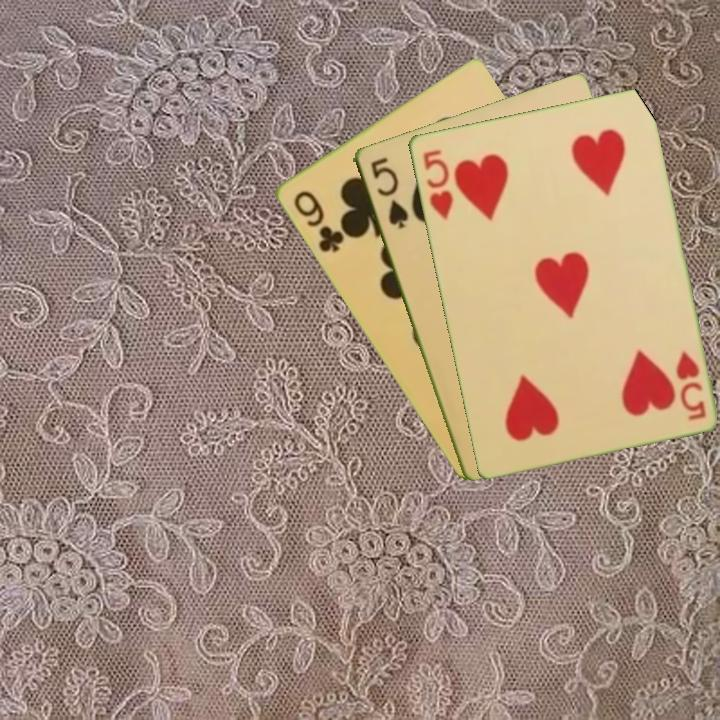5h: (671, 346, 709, 423), (419, 145, 456, 223)
5s: (366, 153, 411, 232)
9c: (289, 186, 347, 256)
